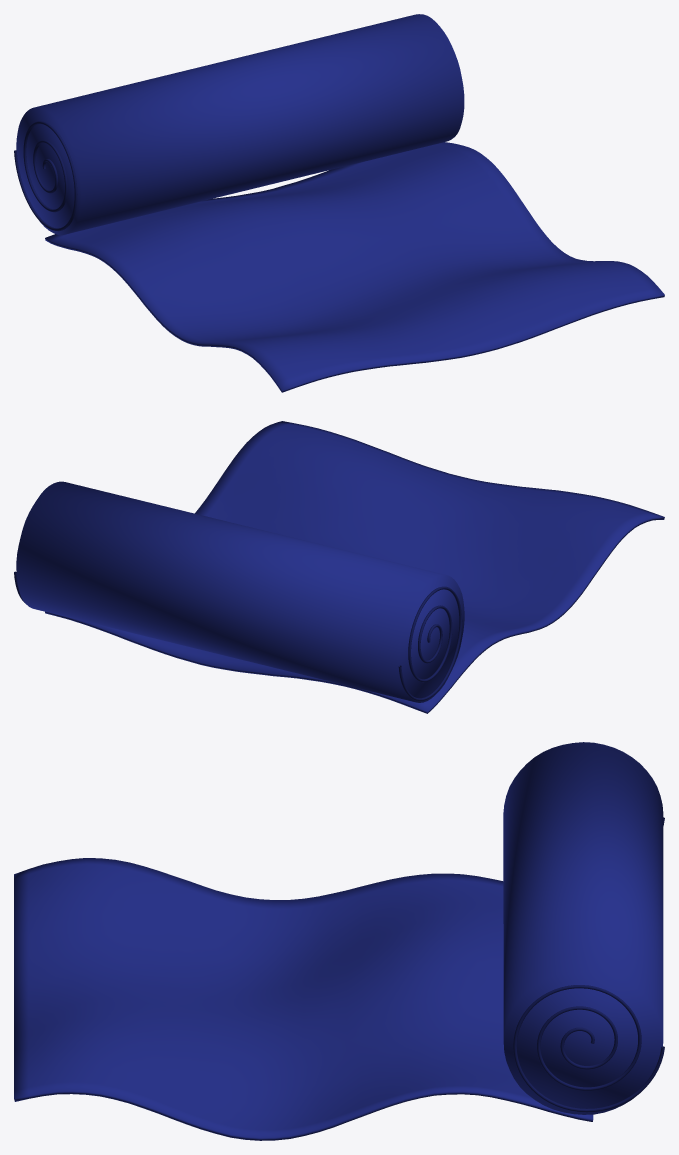
3 renders of one model, top to bottom at view 1: azimuth 30°, elevation 25°; view 2: azimuth 150°, elevation 25°; view 3: azimuth 270°, elevation 25°, orthographic. The views are drawn at different scales.
Parts seen in each view (by area): view 1: TI009 / editable draped woven sheet, TI009 / rolled cloth body, TI009 / visible spiral selvage; view 2: TI009 / rolled cloth body, TI009 / editable draped woven sheet, TI009 / visible spiral selvage; view 3: TI009 / editable draped woven sheet, TI009 / rolled cloth body, TI009 / visible spiral selvage.001.
Boxes of the visible parts, x1,y1,x2,y2 form: TI009 / editable draped woven sheet: [45, 142, 664, 392]; TI009 / rolled cloth body: [16, 14, 464, 235]; TI009 / visible spiral selvage: [14, 121, 77, 231]; TI009 / rolled cloth body: [16, 481, 464, 702]; TI009 / editable draped woven sheet: [45, 421, 664, 713]; TI009 / visible spiral selvage: [398, 586, 462, 700]; TI009 / editable draped woven sheet: [14, 858, 593, 1140]; TI009 / rolled cloth body: [503, 742, 663, 1114]; TI009 / visible spiral selvage.001: [513, 985, 664, 1112].
Size of the model in its own units: 2.73 by 0.9437 by 3.26.
